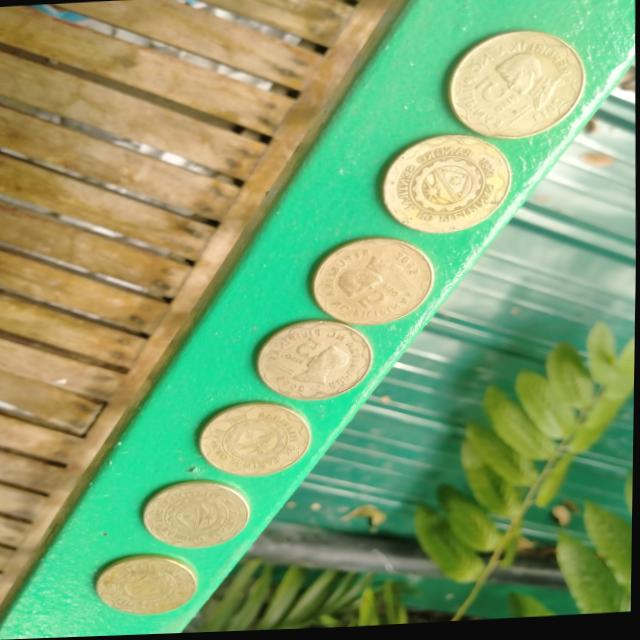5_Old_Front: (269, 325, 358, 396)
